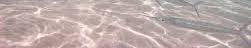sayori: (126, 7, 249, 41)
